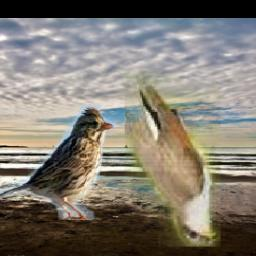Cuckoo: (124, 72, 219, 247)
Sparrow: (0, 104, 115, 220)
